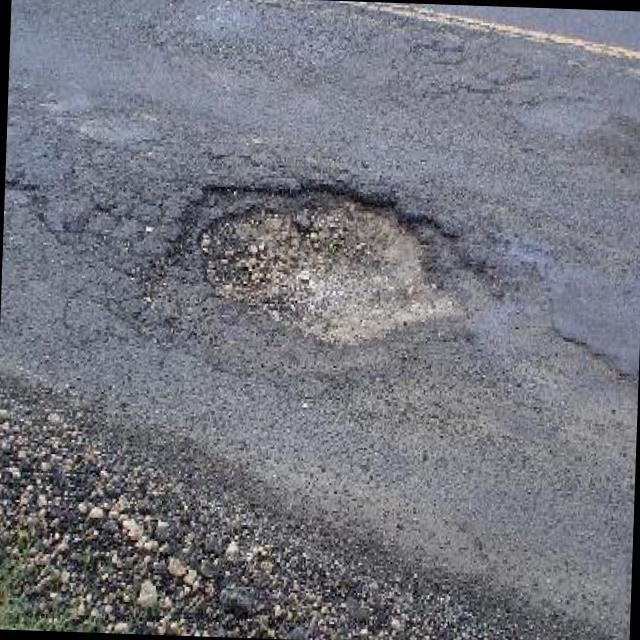Lubang: (196, 192, 454, 343)
